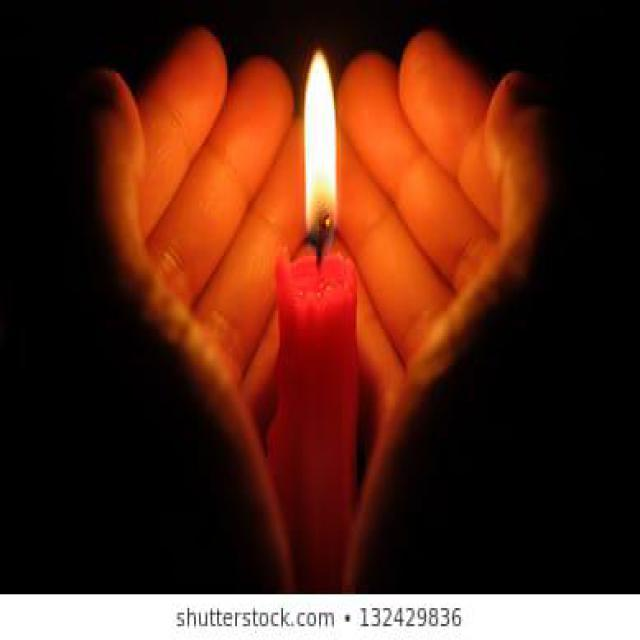Fire: (304, 51, 336, 246)
